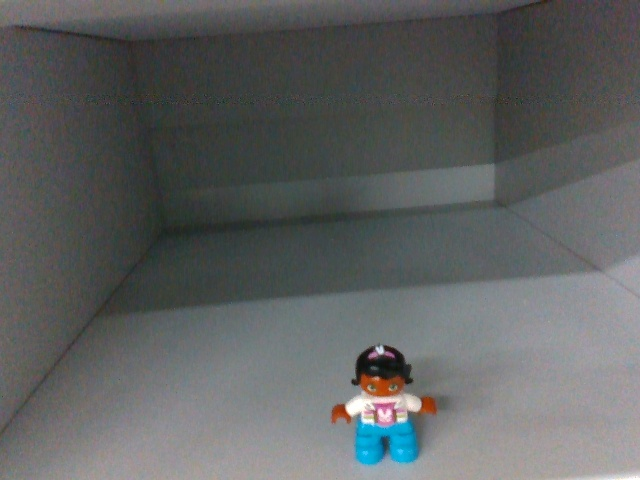people: (331, 346, 437, 461)
